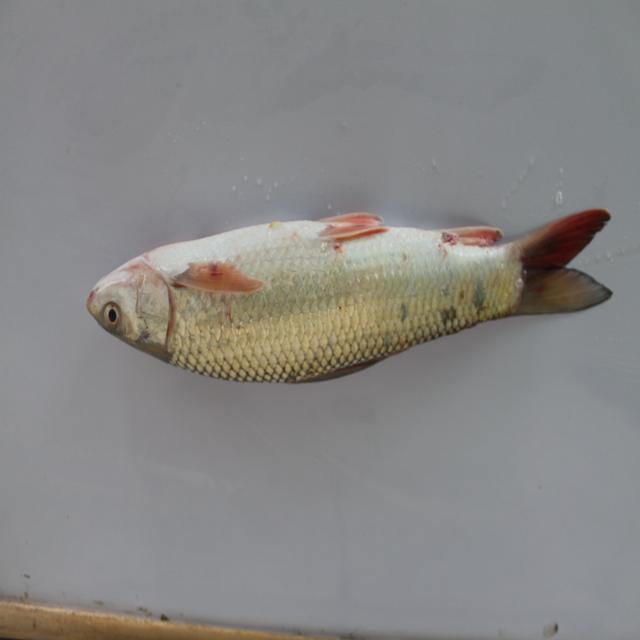Mori: (86, 178, 627, 402)
